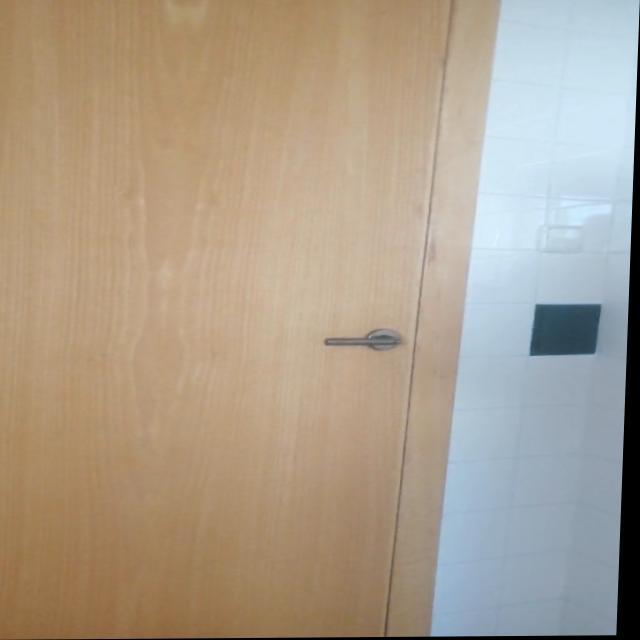door_handle: (322, 335, 406, 349)
